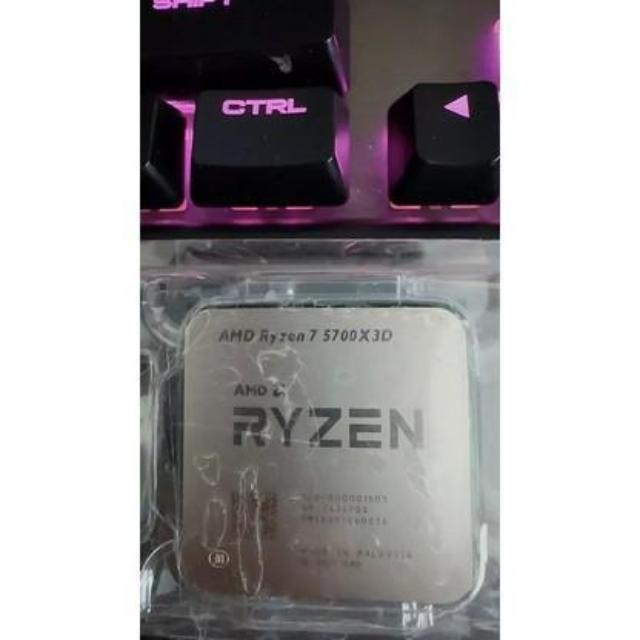CPU: (182, 304, 476, 610)
